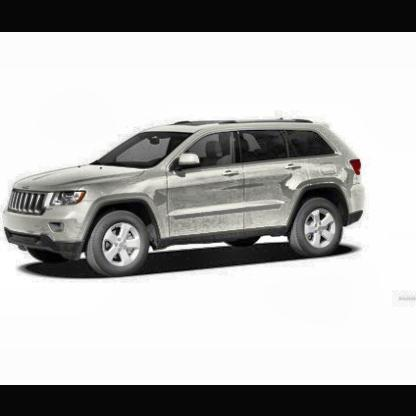Jeep Grand Cherokee SUV 2012: (3, 120, 367, 281)
